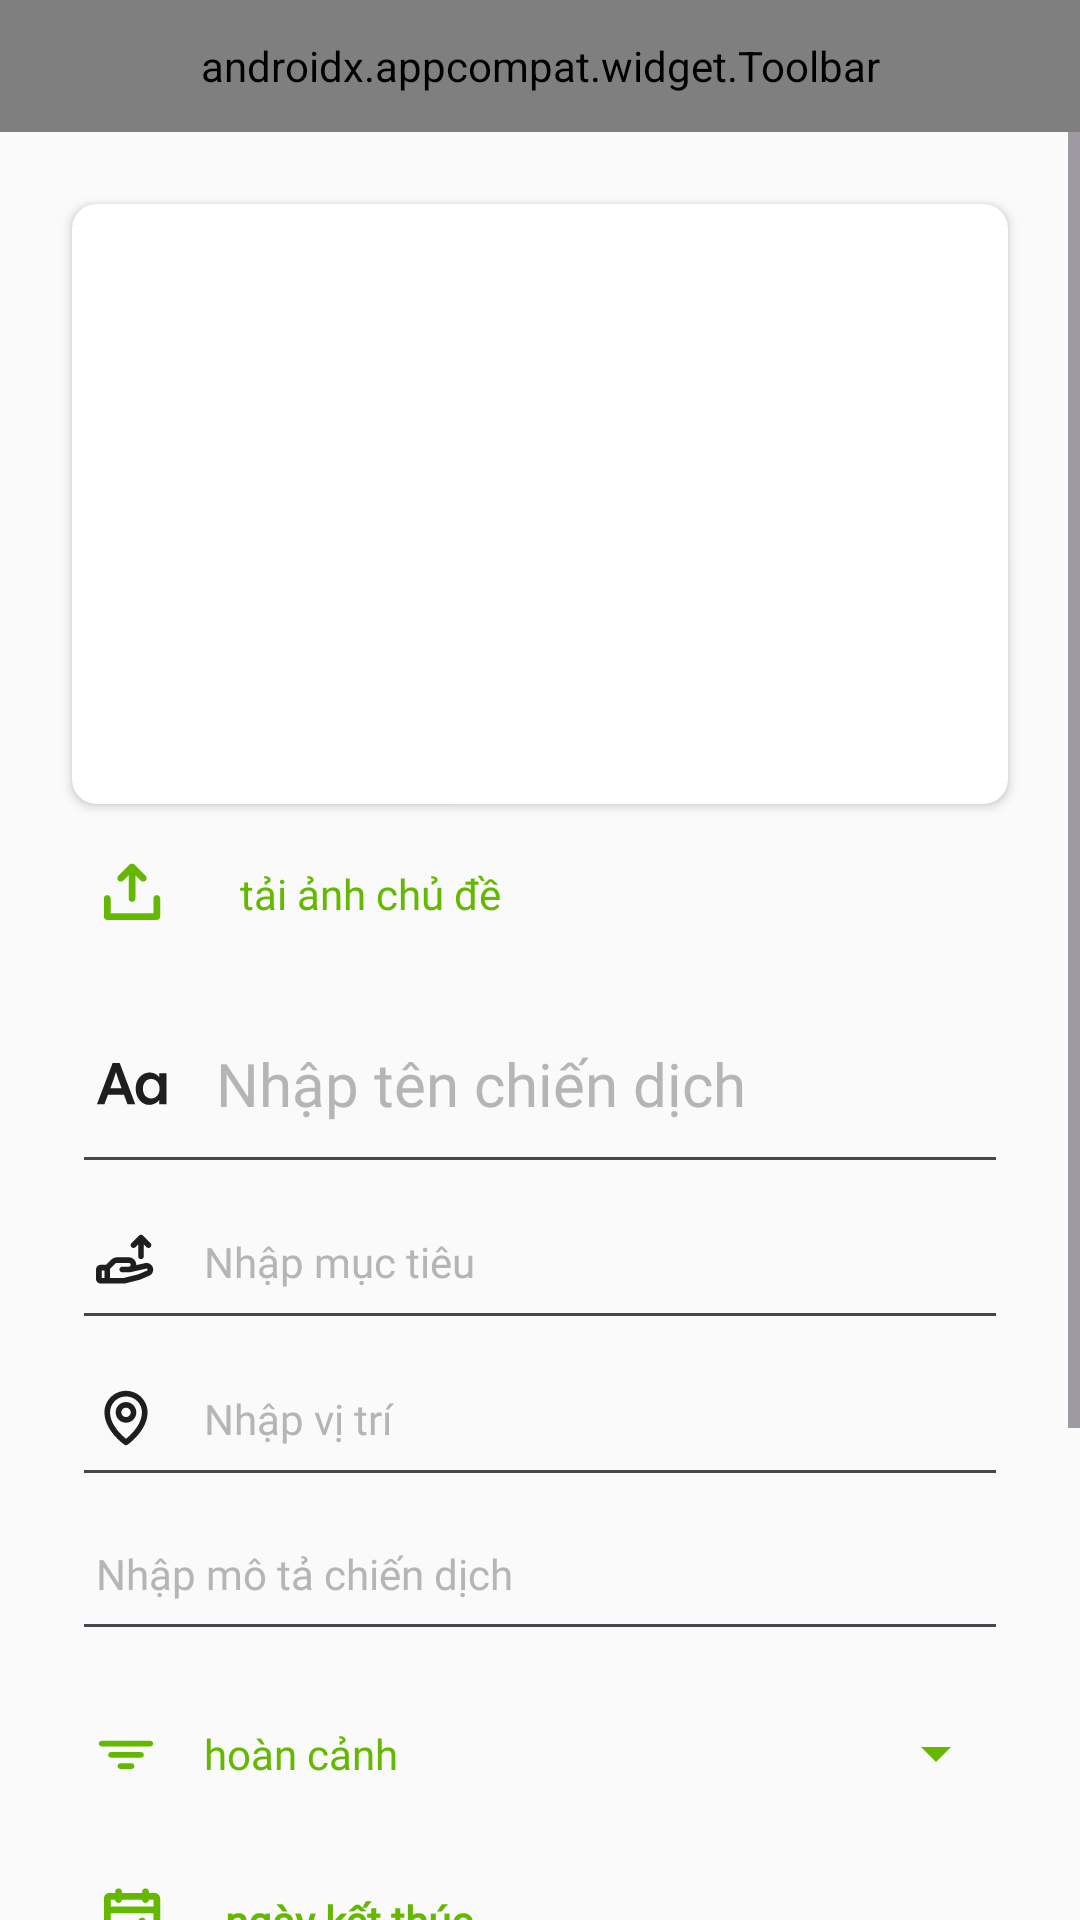

Where icons sit on this 1080px x 1920px app screen, as [left=x1, top=y1, right=x2, bottom=y2]:
funnelsimple: [left=98, top=1740, right=154, bottom=1769]
